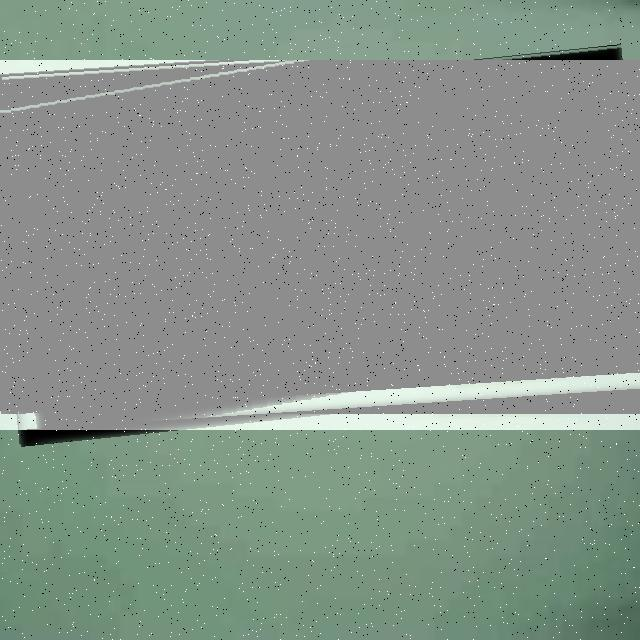dua ribu rupiah: (0, 60, 640, 430)
